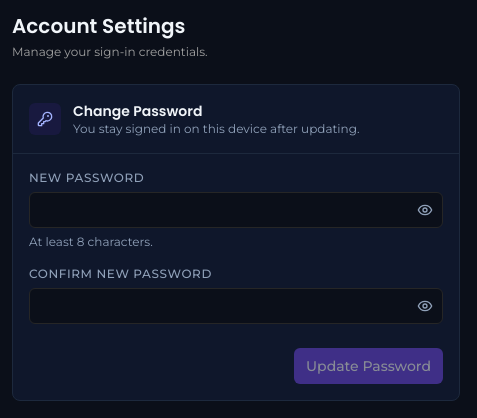
Scenario: AccountSettings › rejects passwords shorter than the minimum length
This screenshot has width=477, height=418.
Type "short" into the password field labelled "New Password" at (236,210), box [29,192,443,228]
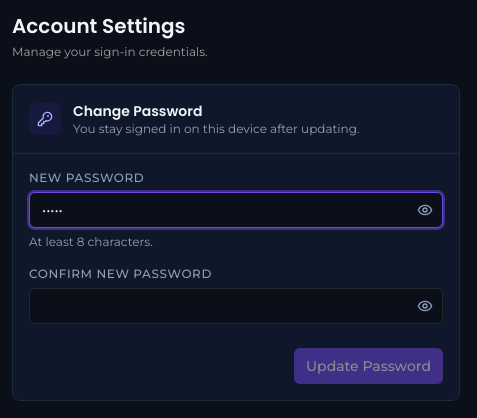
Type "short" into the password field labelled "Confirm New Password" at (236,306), box [29,288,443,324]
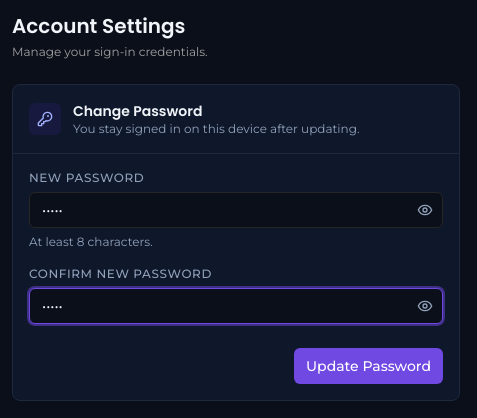
Click the button "Update Password" at (368,366), box [294,348,443,384]
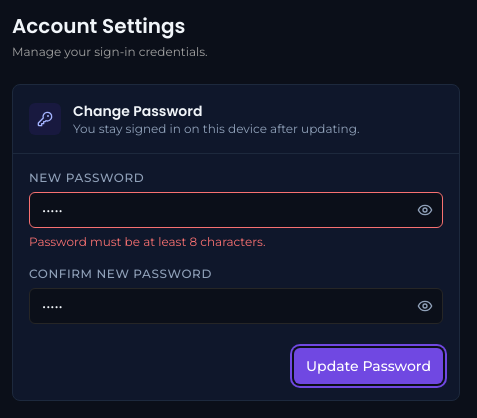
expect the text "Password must be at least 8 characters." is shown: met, box [29,234,266,249]
